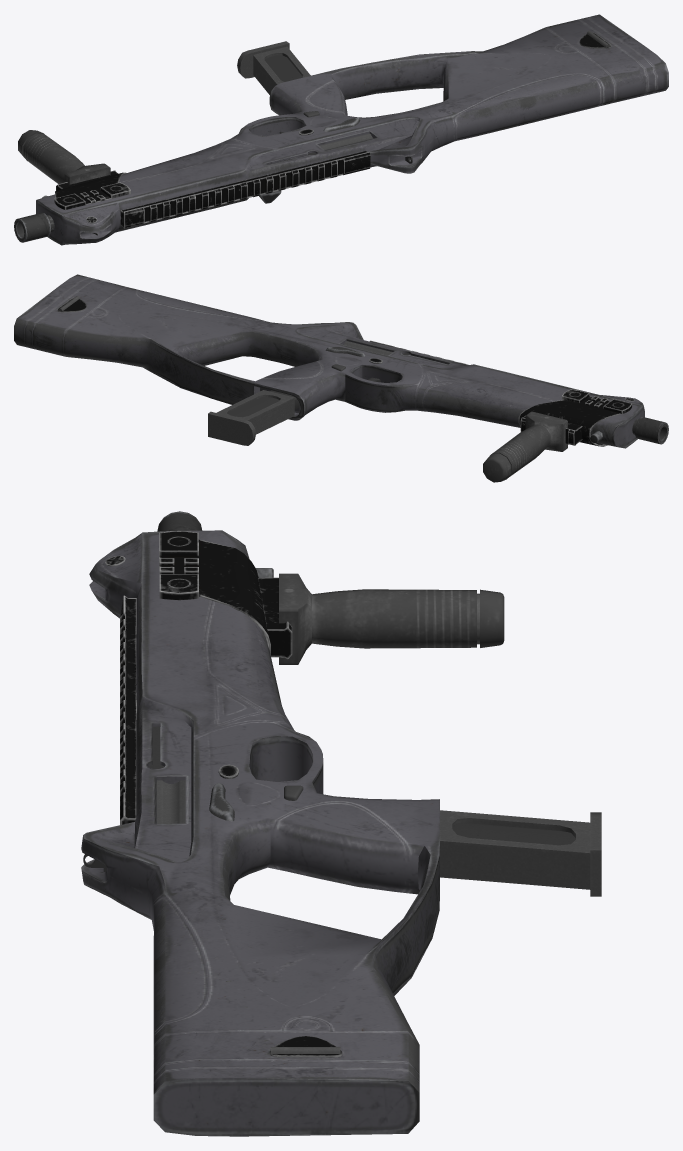
File: smg.obj
3 views of the same model, one above another, from view 1: azimuth 30°, elevation 25°; view 2: azimuth 150°, elevation 25°; view 3: azimuth 270°, elevation 25° (orthographic). The views are drawn at different scales.
Parts seen in each view (by area): view 1: defaultMaterial; view 2: defaultMaterial; view 3: defaultMaterial.
Boxes of the visible parts, bbox=[...] form: defaultMaterial: bbox=[14, 14, 668, 245]; defaultMaterial: bbox=[14, 274, 668, 482]; defaultMaterial: bbox=[81, 511, 601, 1136].
Bounding box in the file's own units: 8.74 × 0.5824 × 3.34.
Materials: 1 (1 with a texture image).
